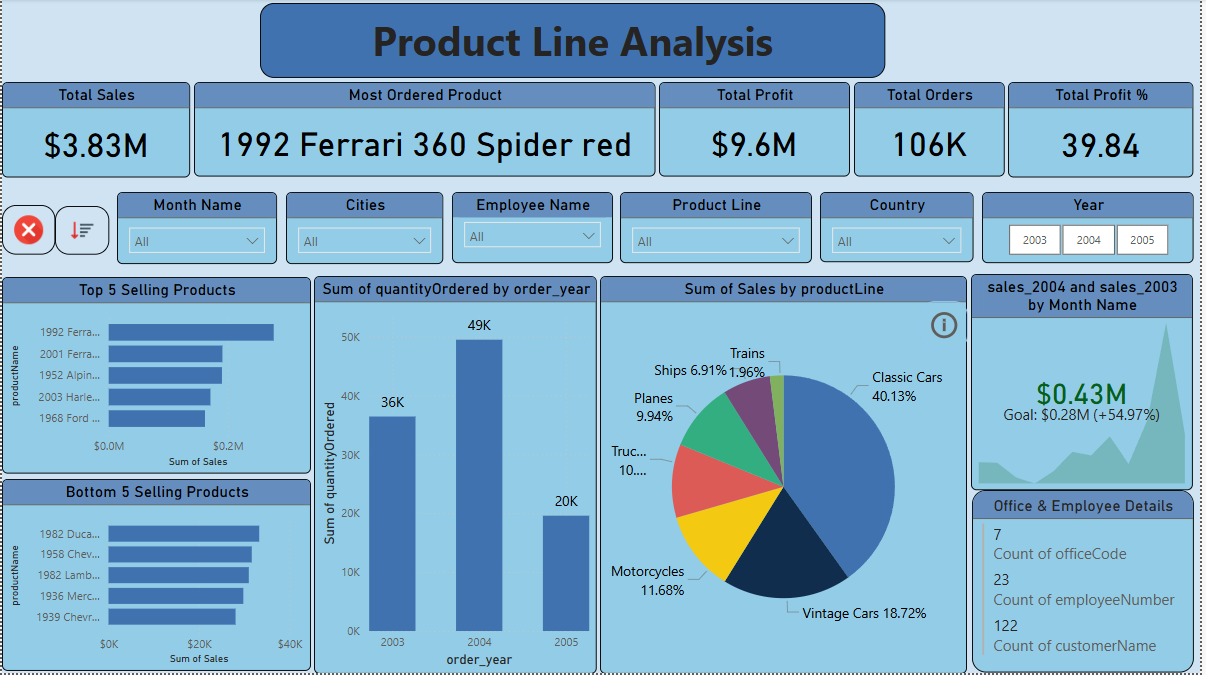

The dashboard page shown, as its layout file describes it:
{"tool":"powerbi","page":{"name":"Sales Dashboard","canvas":[1280,720],"ordinal":0},"visuals":[{"type":"slicer","title":"Month Name","fields":{"Values":["Orders.Month Name"]},"box":[123.3,206.5,170.8,77.3],"z":0,"group":"g1"},{"type":"barChart","title":"Top 5 Selling Products","fields":{"Category":["Products.productName"],"Y":["OrderDetails.Sales"]},"box":[0,296.5,330,210],"z":0},{"type":"slicer","title":"Cities","fields":{"Values":["Employees.city"]},"box":[303.3,206.5,168.5,77.3],"z":1000,"group":"g1"},{"type":"image","box":[0,220.4,56.5,53.1],"z":1000},{"type":"slicer","title":"Employee Name","fields":{"Values":["Employees.EmpFullName"]},"box":[481,206.5,171.9,76.2],"z":2000,"group":"g1"},{"type":"slicer","title":"Year","fields":{"Values":["Orders.order_year"]},"box":[1046.5,206.5,226.2,76.2],"z":2000},{"type":"slicer","title":"Product Line","fields":{"Values":["ProductLines.productLine"]},"box":[661,206.5,205.4,76.2],"z":3000,"group":"g1"},{"type":"image","title":"Filter","box":[56.5,221.5,57.7,51.9],"z":3000},{"type":"slicer","title":"Country","fields":{"Values":["office.country"]},"box":[874.5,206.5,163.8,75],"z":4000,"group":"g1"},{"type":"card","title":"Total Sales","fields":{"Values":["OrderDetails.Total_Profit"]},"box":[0,88.8,200.8,101.5],"z":4000},{"type":"pieChart","fields":{"Category":["Products.productLine"],"Y":["OrderDetails.Sales"]},"box":[639.2,295.4,392.3,424.6],"z":5000},{"type":"card","title":"Total Orders","fields":{"Values":["OrderDetails.quantityOrdered"]},"box":[910,89.1,160.7,101.3],"z":6000},{"type":"card","title":"Total Profit %","fields":{"Values":["classic_models_dataset.Profit Margin %"]},"box":[1074.2,88.8,198.5,101.5],"z":7000},{"type":"multiRowCard","title":"Office & Employee Details","fields":{"Values":["office.officeCode","Employees.employeeNumber","Customers.customerName"]},"box":[1036.2,525,236.5,195],"z":8000},{"type":"card","title":"Total Profit","fields":{"Values":["classic_models_dataset.Total Sales"]},"box":[702.1,89.1,203.9,101.3],"z":9000},{"type":"kpi","fields":{"Goal":["Orders.sales_2003"],"TrendLine":["Orders.Month Name"],"Indicator":["Orders.sales_2004"]},"box":[1035,294.2,236.5,230.8],"z":10000},{"type":"card","title":"Most Ordered Product","fields":{"Values":["OrderDetails.Most Ordered Product 2"]},"box":[205.2,89.1,492.8,101.3],"z":11000},{"type":"clusteredColumnChart","fields":{"Category":["Orders.order_year"],"Y":["OrderDetails.quantityOrdered"]},"box":[333.5,295.4,302.3,424.6],"z":12000},{"type":"barChart","title":"Bottom 5 Selling Products","fields":{"Category":["Products.productName"],"Y":["OrderDetails.Sales"]},"box":[0,512.3,330,205.4],"z":13000},{"type":"actionButton","box":[981.9,323.1,49.6,51.9],"z":14000},{"type":"textbox","box":[275.8,4.6,668.1,79.6],"z":15000},{"type":"group","id":"g1","title":"Slicers","box":[123.3,206.5,915,77.3],"z":16000}]}

Visuals, with their boxes in screenshot pixels (x1, y1, x2, y2), scaled from the page's 1280x720 canvas onto the 1206x675 screenshot:
"Month Name" slicer: x1=116, y1=194, x2=277, y2=266
"Top 5 Selling Products" barChart: x1=0, y1=278, x2=311, y2=475
"Cities" slicer: x1=286, y1=194, x2=445, y2=266
image: x1=0, y1=207, x2=53, y2=256
"Employee Name" slicer: x1=453, y1=194, x2=615, y2=265
"Year" slicer: x1=986, y1=194, x2=1199, y2=265
"Product Line" slicer: x1=623, y1=194, x2=816, y2=265
"Filter" image: x1=53, y1=208, x2=108, y2=256
"Country" slicer: x1=824, y1=194, x2=978, y2=264
"Total Sales" card: x1=0, y1=83, x2=189, y2=178
pieChart - Products.productLine x OrderDetails.Sales: x1=602, y1=277, x2=972, y2=674
"Total Orders" card: x1=857, y1=84, x2=1009, y2=178
"Total Profit %" card: x1=1012, y1=83, x2=1199, y2=178
"Office & Employee Details" multiRowCard: x1=976, y1=492, x2=1199, y2=674
"Total Profit" card: x1=662, y1=84, x2=854, y2=178
kpi - Orders.sales_2003 x Orders.Month Name: x1=975, y1=276, x2=1198, y2=492
"Most Ordered Product" card: x1=193, y1=84, x2=658, y2=178
clusteredColumnChart - Orders.order_year x OrderDetails.quantityOrdered: x1=314, y1=277, x2=599, y2=674
"Bottom 5 Selling Products" barChart: x1=0, y1=480, x2=311, y2=673
actionButton: x1=925, y1=303, x2=972, y2=352
textbox: x1=260, y1=4, x2=889, y2=79
"Slicers" group: x1=116, y1=194, x2=978, y2=266
